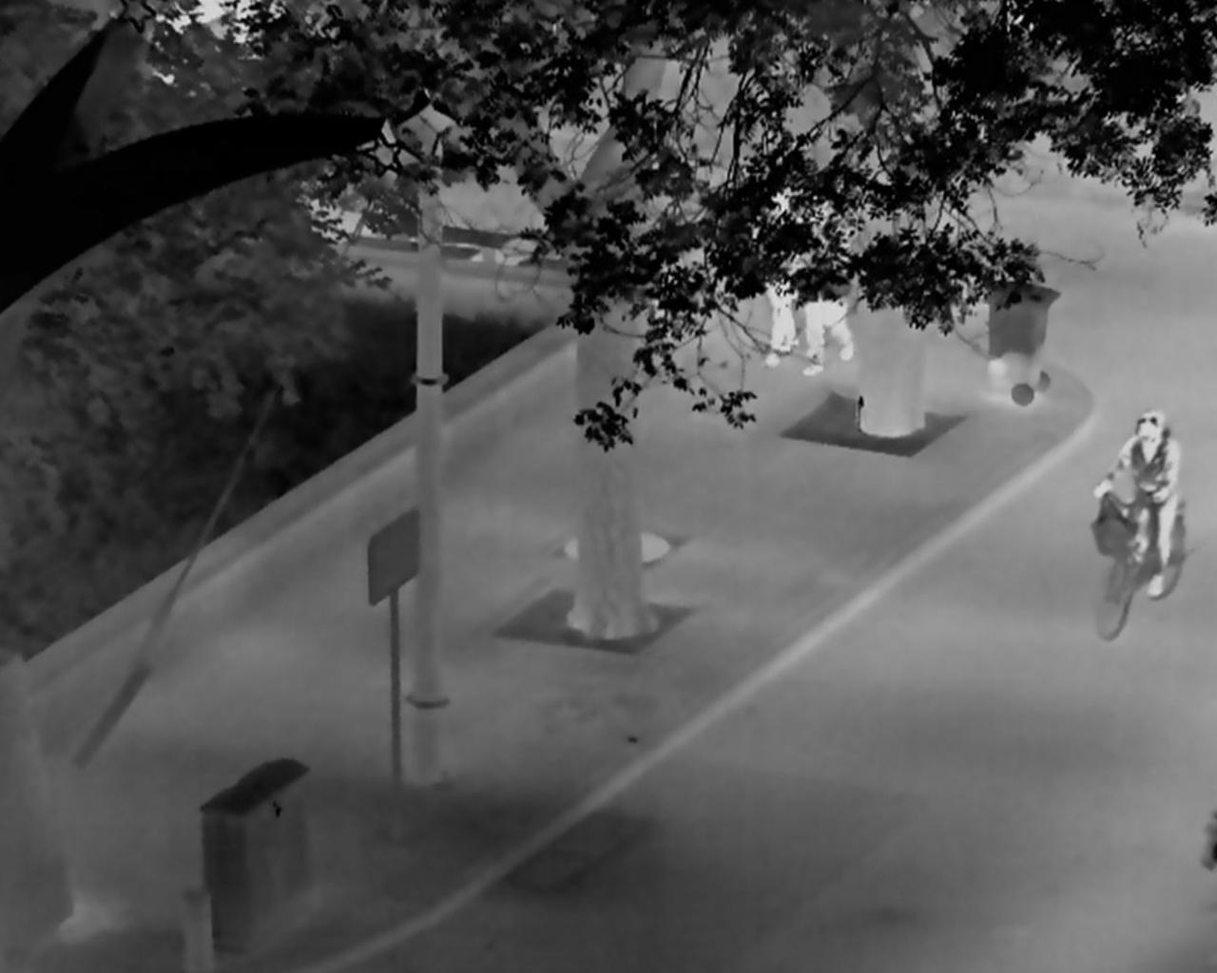person: (1093, 410, 1179, 598), (803, 188, 857, 376), (752, 184, 803, 368)
